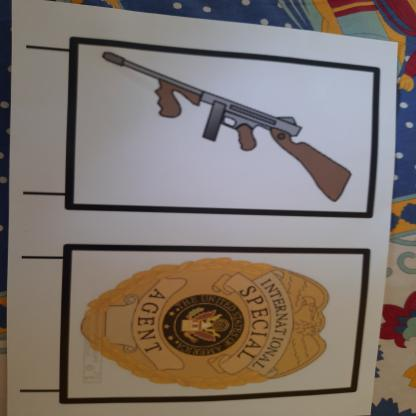Bootlegger: (89, 42, 366, 209)
G-man: (74, 254, 342, 396)
